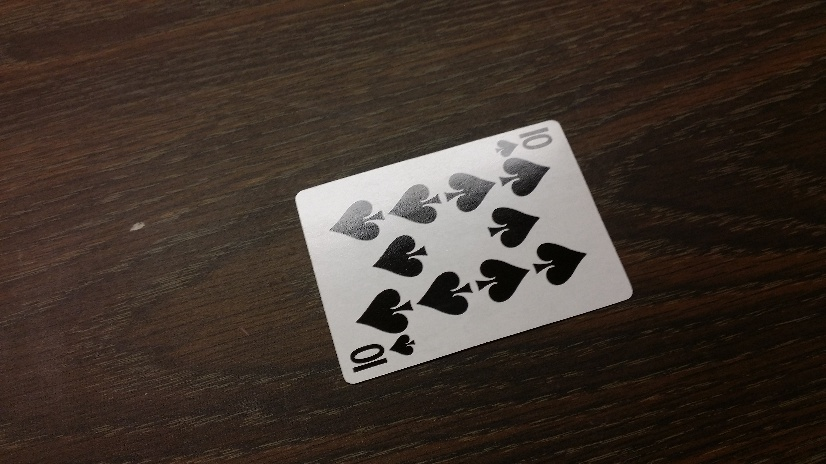S10: (342, 334, 416, 374), (497, 124, 556, 157)
